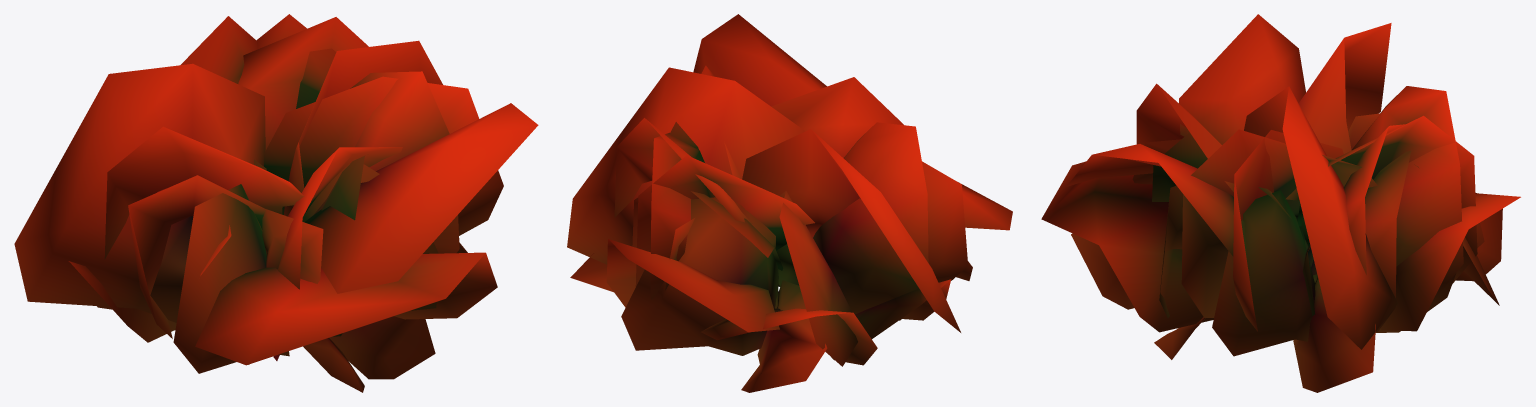
The model's file is JuniperBush_B.fbx.
The picture shows the model from 3 angles, left to right: view 1: azimuth 30°, elevation 25°; view 2: azimuth 150°, elevation 25°; view 3: azimuth 270°, elevation 25°; orthographic projection. The views are drawn at different scales.
Parts seen in each view (by area): view 1: JuniperBush_B_LOD0; view 2: JuniperBush_B_LOD0; view 3: JuniperBush_B_LOD0.
Boxes of the visible parts, x1,y1,x2,y2 form: JuniperBush_B_LOD0: (14,14,538,392); JuniperBush_B_LOD0: (567,14,1012,392); JuniperBush_B_LOD0: (1041,14,1520,392).
Size of what is drawn, in the model's own units: 2.61 by 1.55 by 2.52.
